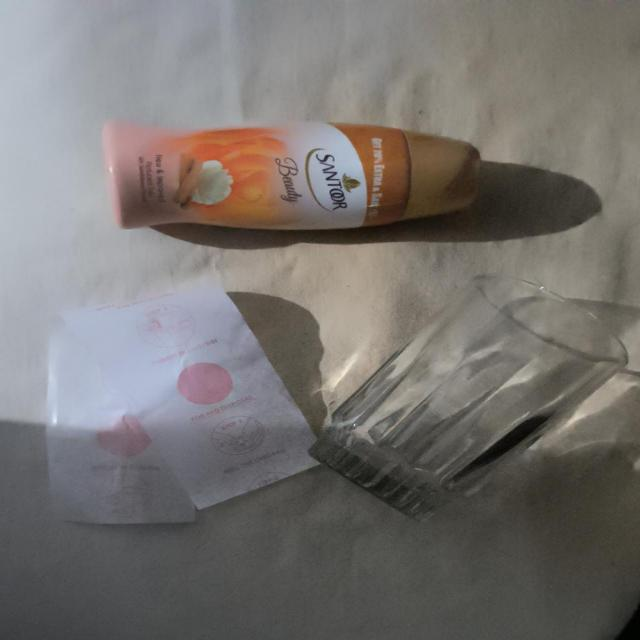paper: (16, 278, 298, 538)
plastic: (96, 117, 518, 260)
